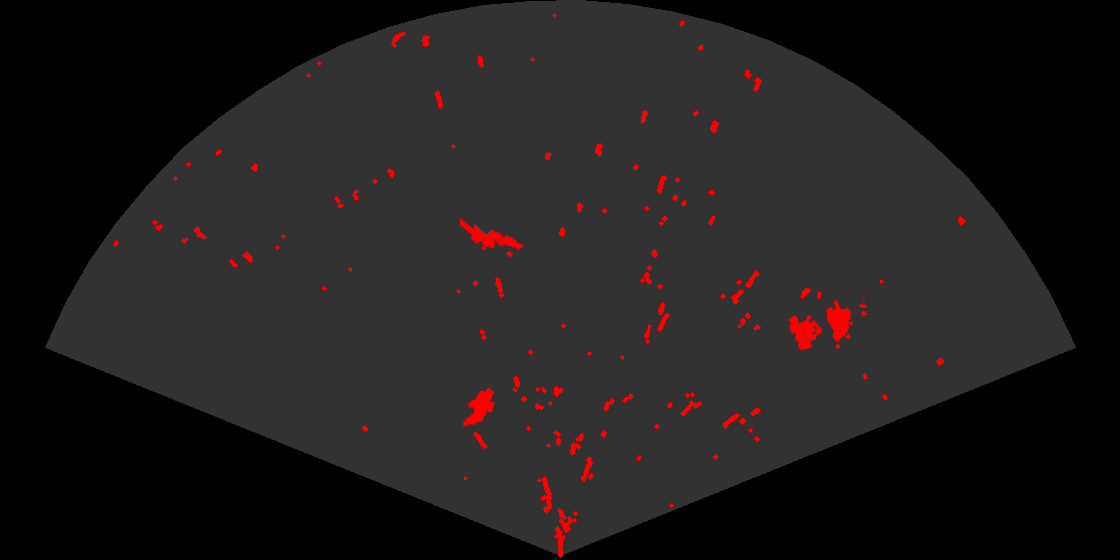AUV: (461, 386, 496, 428)
cage: (787, 292, 867, 352)
frogman: (460, 216, 525, 252)
